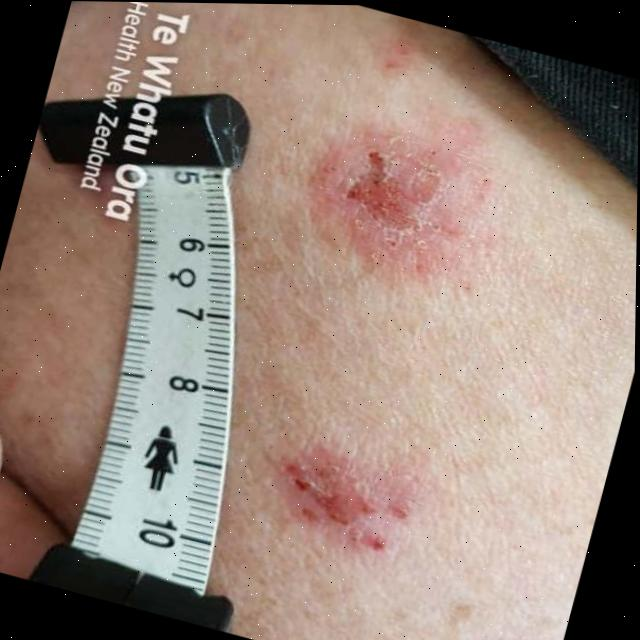Eczema: (343, 146, 463, 263), (304, 435, 410, 539)
